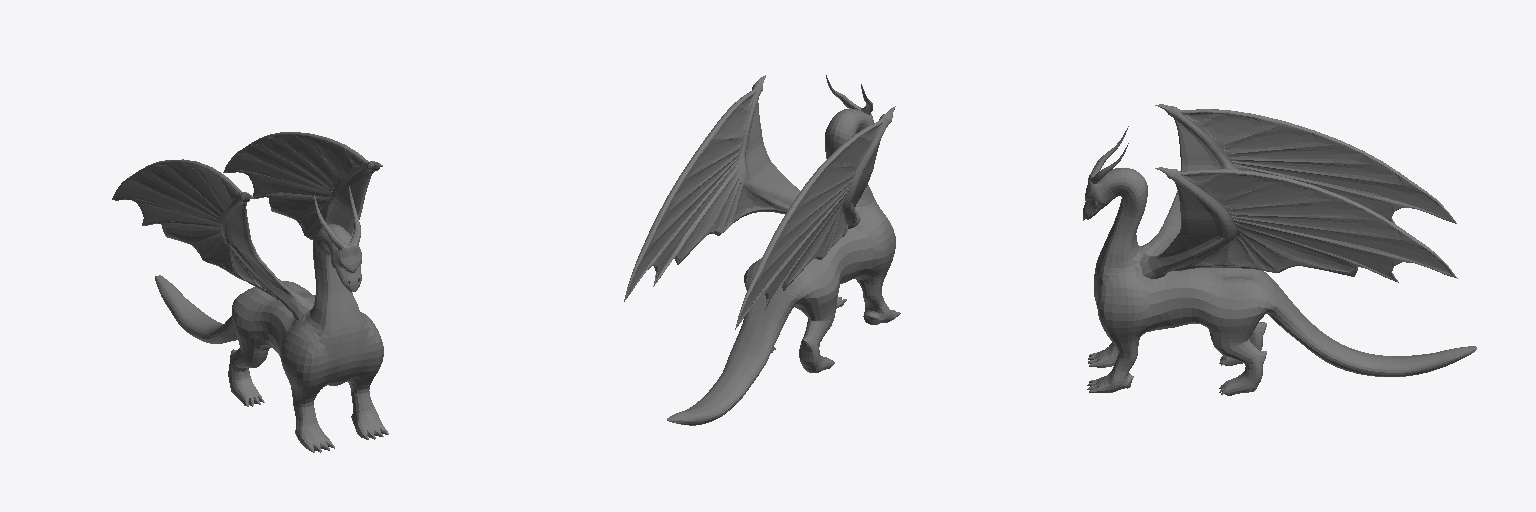
The model's file is dragon.obj.
3 renders of one model, left to right at view 1: azimuth 30°, elevation 25°; view 2: azimuth 150°, elevation 25°; view 3: azimuth 270°, elevation 25°, orthographic.
Visible parts, largest first — view 1: dragon:Box01; view 2: dragon:Box01; view 3: dragon:Box01.
Part boxes in pixels (bbox=[...]): dragon:Box01: bbox=[112, 132, 388, 452]; dragon:Box01: bbox=[624, 75, 900, 425]; dragon:Box01: bbox=[1083, 104, 1476, 395].
Size of the model in its own units: 9.2 by 15.52 by 22.68.